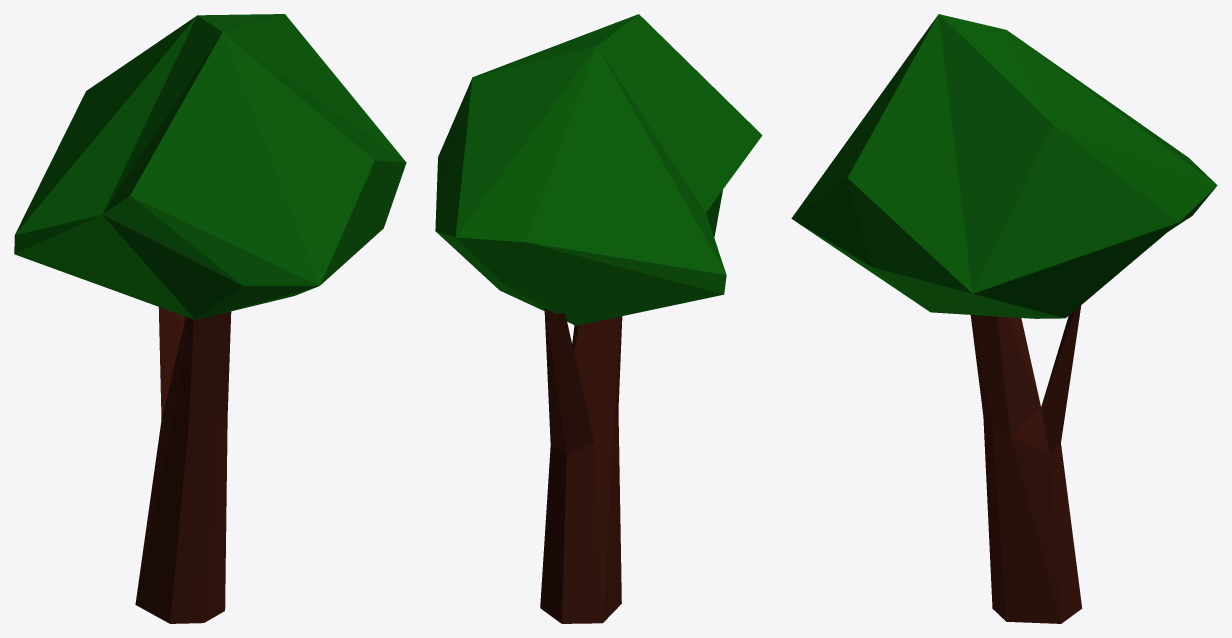
File: tree1.obj
The picture shows the model from 3 angles, left to right: view 1: azimuth 30°, elevation 25°; view 2: azimuth 150°, elevation 25°; view 3: azimuth 270°, elevation 25°; orthographic projection. The views are drawn at different scales.
Parts seen in each view (by area): view 1: tree; view 2: tree; view 3: tree.
Part boxes in pixels (bbox=[...]): tree: bbox=[14, 14, 406, 623]; tree: bbox=[435, 14, 762, 623]; tree: bbox=[791, 14, 1217, 623].
Bounding box in the file's own units: 6.82 × 11.31 × 7.41.
